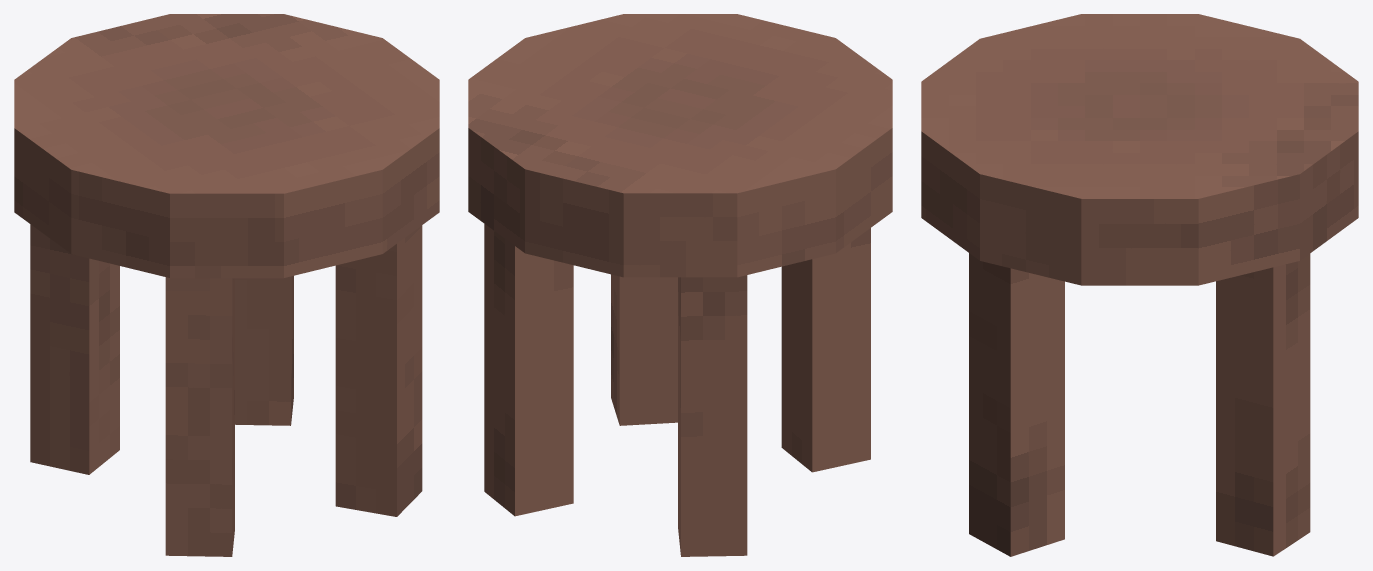
The model's file is stool.gltf.
The picture shows the model from 3 angles, left to right: view 1: azimuth 30°, elevation 25°; view 2: azimuth 150°, elevation 25°; view 3: azimuth 270°, elevation 25°; orthographic projection. The views are drawn at different scales.
Visible parts, largest first — view 1: cylinder, mesh (×4); view 2: cylinder, mesh (×4); view 3: cylinder, mesh (×2).
Boxes of the visible parts, <box> form: cylinder: <box>14,14,439,278</box>; mesh (×4): <box>30,224,422,556</box>; cylinder: <box>468,14,892,277</box>; mesh (×4): <box>484,224,870,556</box>; cylinder: <box>921,14,1358,285</box>; mesh (×2): <box>969,253,1310,556</box>.
Bounding box in the file's own units: 1 × 0.9688 × 1.
Materials: 5 (5 with a texture image).
